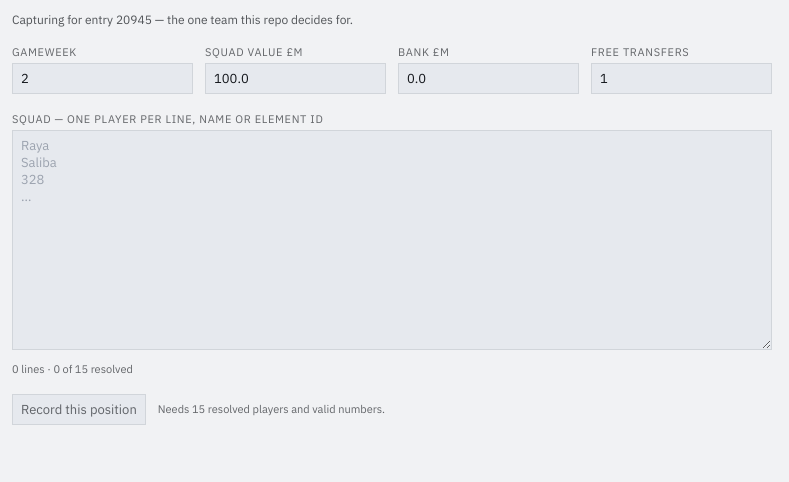
Test: resolution refuses to guess › refuses an ambiguous surname rather than taking the first match
The width and height of the screenshot is (789, 482).
Type "Silva" into the text box labelled "Squad — one player per line, name or element id".
click(392, 240); type("Silva")  # box [12, 130, 772, 350]
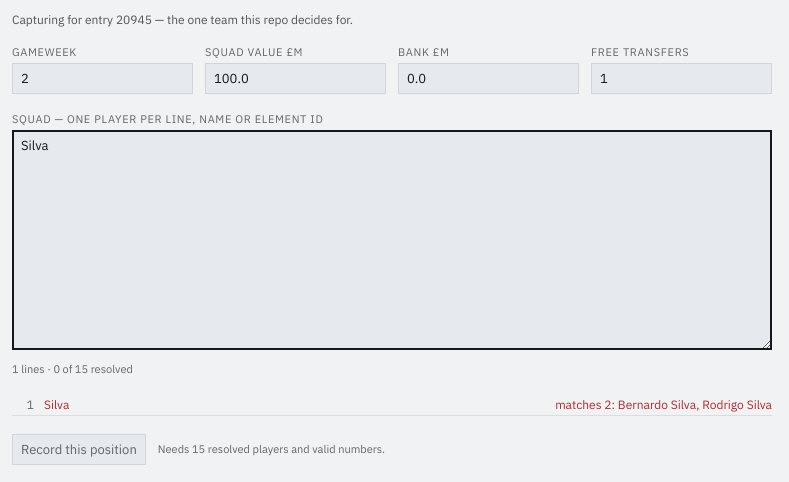
Expected: the text "matches 2: Bernardo Silva, Rodrigo Silva" is shown, [555, 396, 772, 412]
